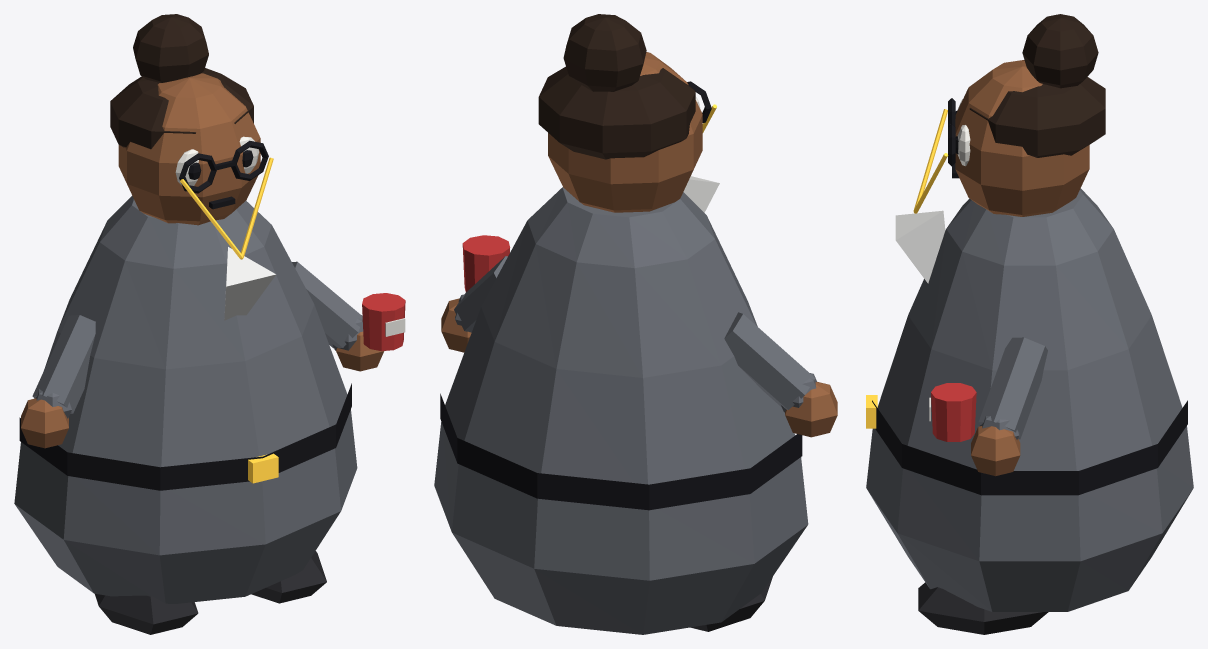
Rendered from npc_jefa.glb.
The picture shows the model from 3 angles, left to right: view 1: azimuth 30°, elevation 25°; view 2: azimuth 150°, elevation 25°; view 3: azimuth 270°, elevation 25°; orthographic projection. The views are drawn at different scales.
Parts seen in each view (by area): view 1: body_boss_suit, head_skin_cacao, head_hair_dark, body_black, arms_boss_suit, legs_boss_shoes, arms_skin_cacao, body_boss_blouse, props_boss_mug, face_black, glasses_gold, body_gold (+1 smaller); view 2: body_boss_suit, head_hair_dark, body_black, head_skin_cacao, arms_boss_suit, arms_skin_cacao, props_boss_mug, legs_boss_shoes, body_boss_blouse; view 3: body_boss_suit, head_hair_dark, head_skin_cacao, body_black, arms_boss_suit, legs_boss_shoes, props_boss_mug, body_boss_blouse, arms_skin_cacao, glasses_gold, face_black.
Boxes of the visible parts, bbox=[...] form: body_boss_suit: bbox=[14, 196, 357, 603]; head_skin_cacao: bbox=[118, 73, 260, 225]; head_hair_dark: bbox=[110, 14, 253, 149]; body_black: bbox=[19, 383, 351, 490]; arms_boss_suit: bbox=[32, 261, 363, 418]; legs_boss_shoes: bbox=[95, 551, 326, 634]; arms_skin_cacao: bbox=[21, 331, 384, 448]; body_boss_blouse: bbox=[224, 247, 275, 320]; props_boss_mug: bbox=[362, 293, 405, 351]; face_black: bbox=[179, 140, 268, 209]; glasses_gold: bbox=[180, 157, 273, 259]; body_gold: bbox=[248, 453, 278, 483]; body_boss_suit: bbox=[434, 187, 808, 634]; head_hair_dark: bbox=[538, 14, 695, 159]; body_black: bbox=[440, 393, 802, 510]; head_skin_cacao: bbox=[548, 52, 702, 212]; arms_boss_suit: bbox=[454, 256, 816, 412]; arms_skin_cacao: bbox=[441, 298, 837, 437]; props_boss_mug: bbox=[462, 235, 510, 291]; legs_boss_shoes: bbox=[690, 576, 772, 631]; body_boss_blouse: bbox=[683, 176, 719, 212]; body_boss_suit: bbox=[866, 188, 1193, 611]; head_hair_dark: bbox=[969, 14, 1105, 157]; head_skin_cacao: bbox=[955, 60, 1089, 216]; body_black: bbox=[872, 400, 1187, 495]; arms_boss_suit: bbox=[978, 337, 1047, 439]; legs_boss_shoes: bbox=[918, 582, 1048, 634]; props_boss_mug: bbox=[931, 383, 976, 441]; body_boss_blouse: bbox=[895, 210, 945, 283]; arms_skin_cacao: bbox=[971, 426, 1020, 476]; glasses_gold: bbox=[913, 109, 948, 213]; face_black: bbox=[948, 98, 958, 178].
Bounding box in the file's own units: 1.13 × 1.67 × 0.86.
